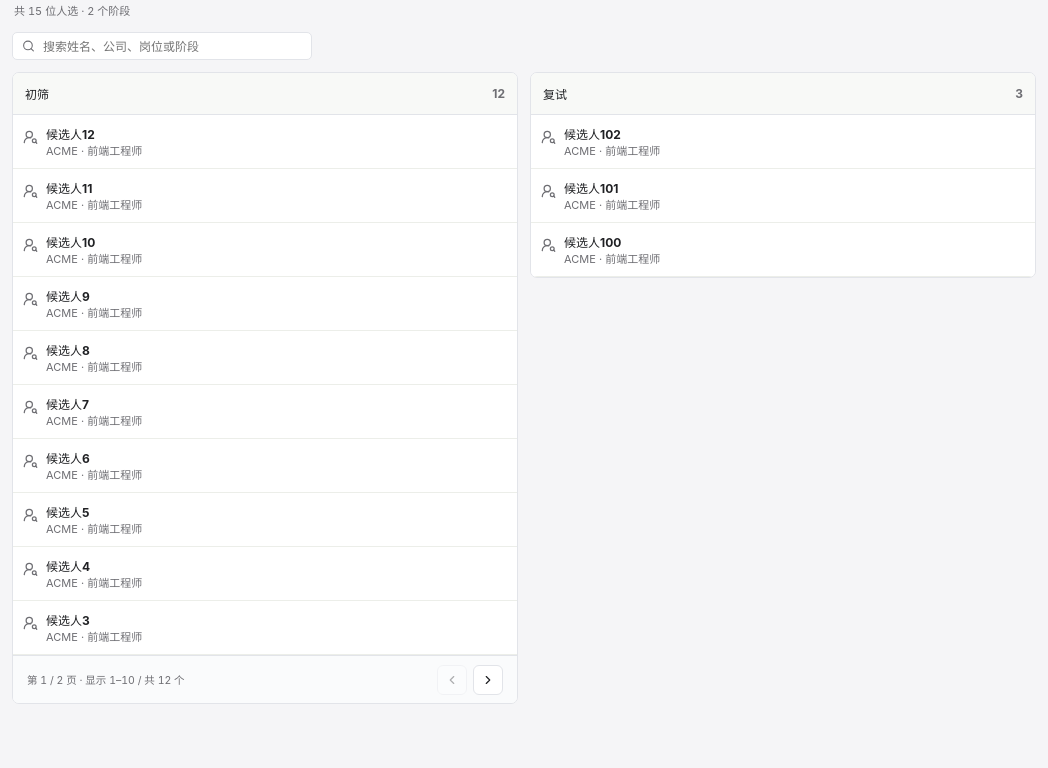
it: 人选进度 Progress › 各阶段分页独立互不影响
What coordinates should you click on to do the following:
click the button named "下一页"
I would click on:
 (488, 680)
Its box is [473,664,503,694].
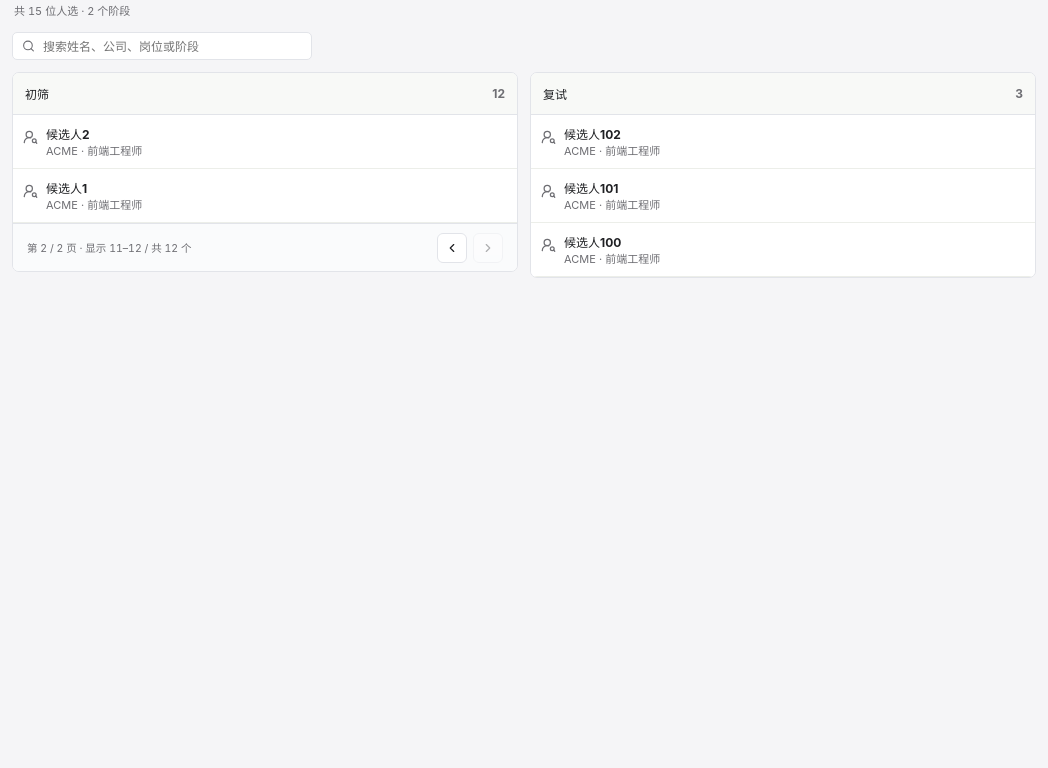
Expected: the text "候选人101" is shown, [564,181,618,196]
Expected: the text "候选人2" is shown, [46,127,90,142]
